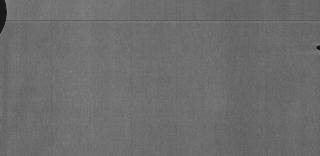punching hole: (314, 44, 320, 52)
welding line: (2, 18, 320, 26)
